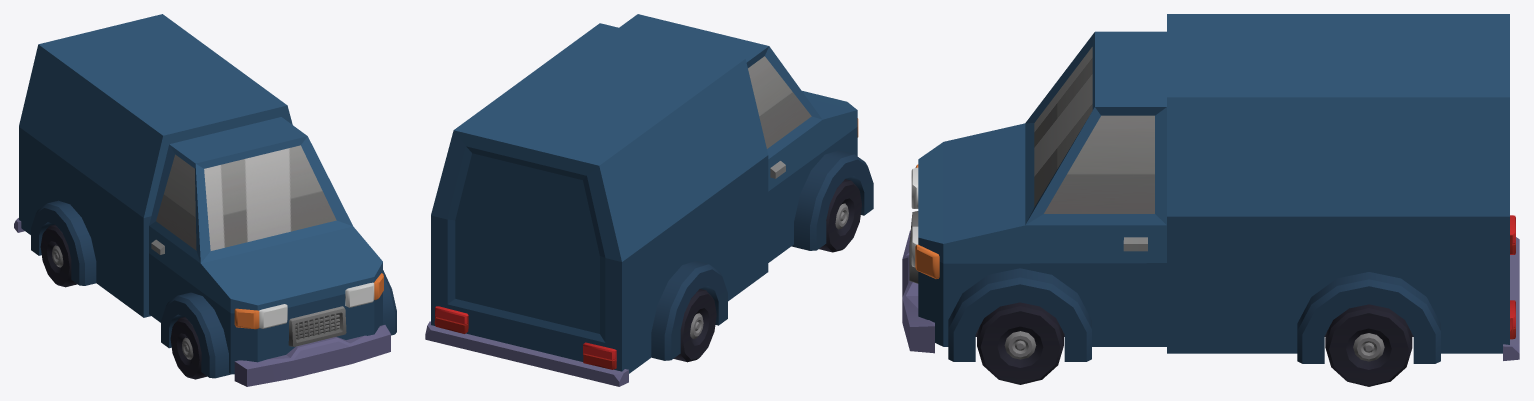
Rendered from Van_9.fbx.
3 views of the same model, side by side, from view 1: azimuth 30°, elevation 25°; view 2: azimuth 150°, elevation 25°; view 3: azimuth 270°, elevation 25° (orthographic). The views are drawn at different scales.
Visible parts, largest first — view 1: Van_9, wheel_FR, wheel_BR; view 2: Van_9, wheel_BR, wheel_FR; view 3: Van_9, wheel_BL, wheel_FL.
Part boxes in pixels (x1,y1,x2,y2): Van_9: (14,14,396,386); wheel_FR: (170,317,207,379); wheel_BR: (40,224,77,287); Van_9: (425,14,873,386); wheel_BR: (673,289,716,362); wheel_FR: (819,179,861,252); Van_9: (902,14,1519,363); wheel_BL: (1325,304,1412,386); wheel_FL: (977,302,1063,384).
Bounding box in the file's own units: 1.23 × 1.19 × 2.48.
